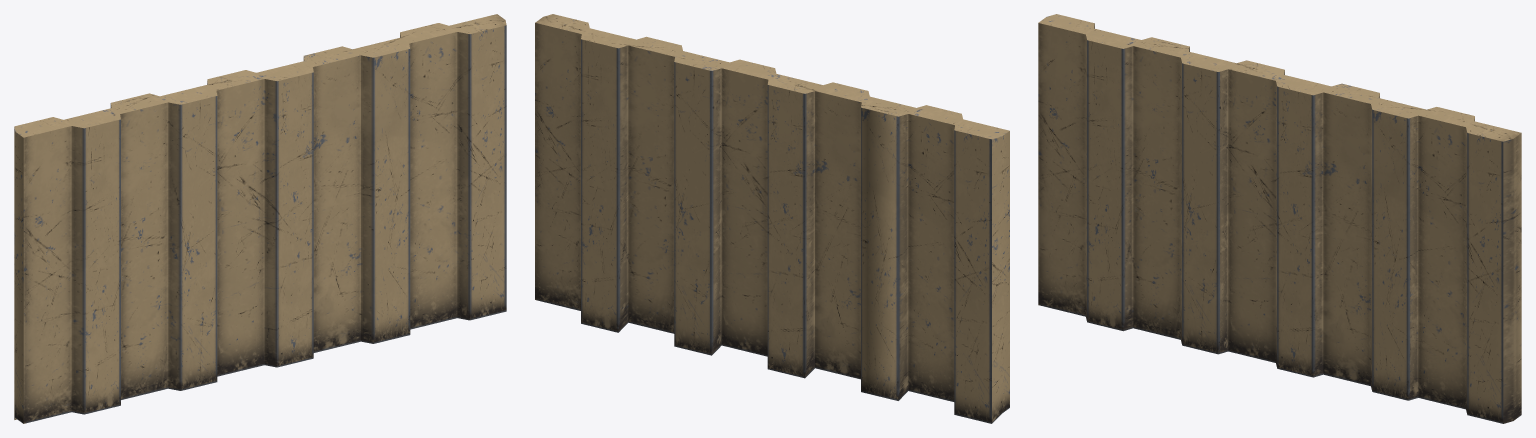
The model's file is CnWallA1Btm.fbx.
3 renders of one model, left to right at view 1: azimuth 30°, elevation 25°; view 2: azimuth 150°, elevation 25°; view 3: azimuth 330°, elevation 25°, orthographic. The views are drawn at different scales.
Parts seen in each view (by area): view 1: CnWallA1Btm; view 2: CnWallA1Btm; view 3: CnWallA1Btm.
Boxes of the visible parts, x1=… form: CnWallA1Btm: x1=14, y1=14, x2=506, y2=423; CnWallA1Btm: x1=535, y1=14, x2=1009, y2=423; CnWallA1Btm: x1=1038, y1=14, x2=1521, y2=423.
Bounding box in the file's own units: 200 × 116 × 14.
